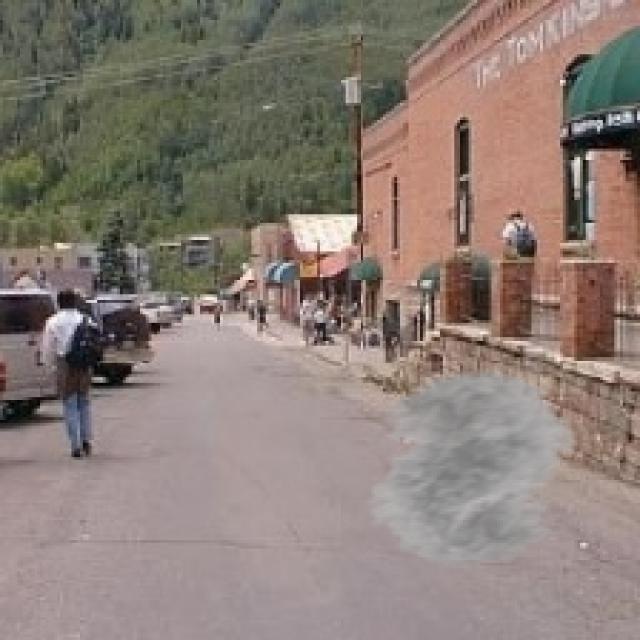smoke: (340, 368, 597, 568)
